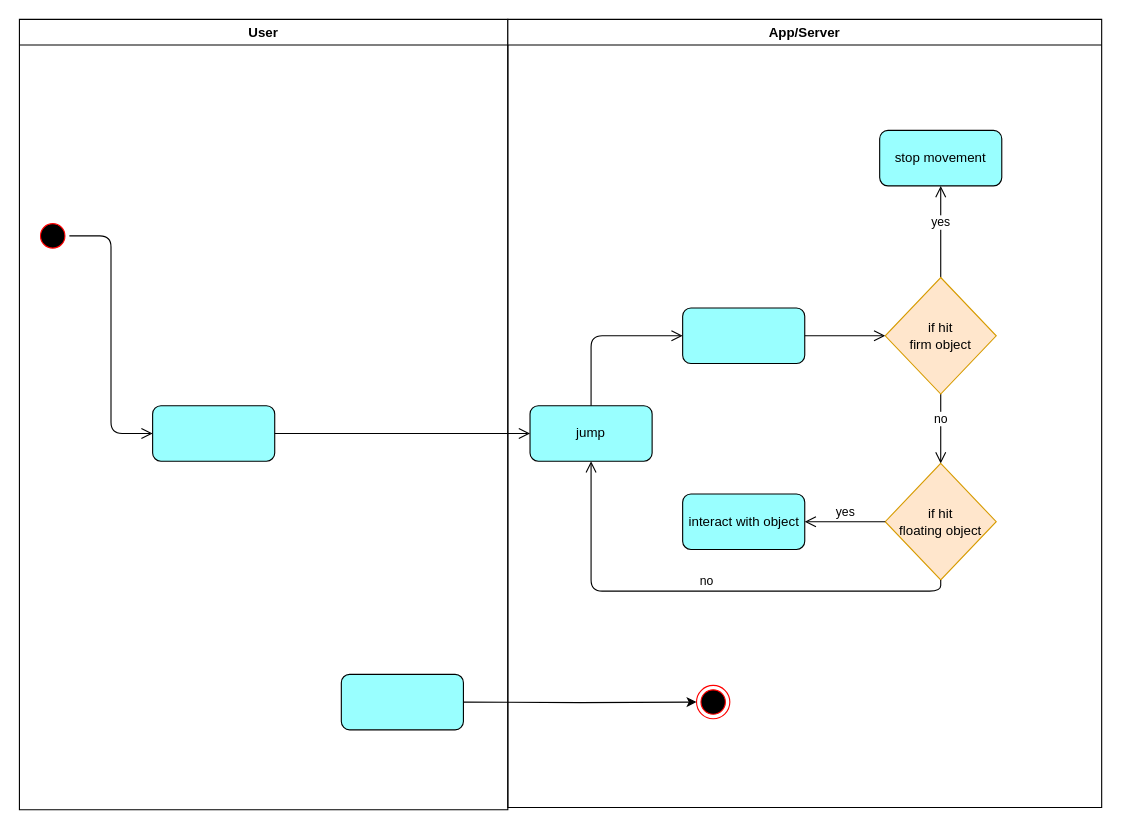
The diagram is 1121 pixels wide and 829 high, and some of its shapes have lost their labels. Here are the shapes that lost their labels. From the top down, the centre of each, then its label:
pixel 743 335: check environment
pixel 213 433: Player jump
pixel 401 701: stop application
